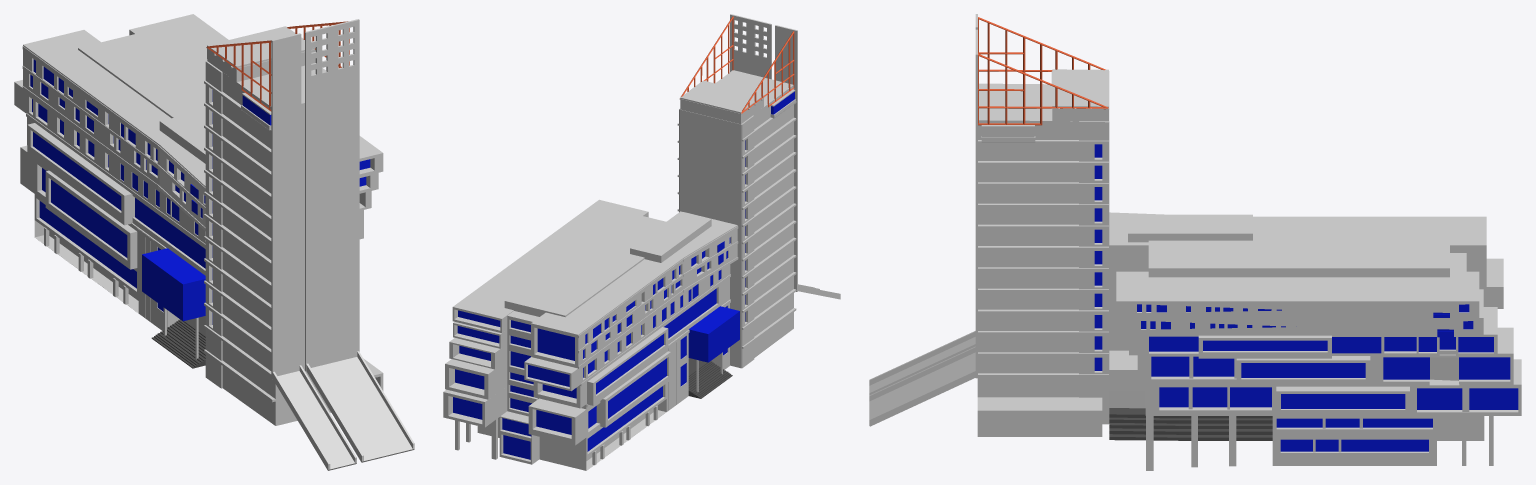
Rendered from golden_jubilee.fbx.
3 views of the same model, side by side, from view 1: azimuth 30°, elevation 25°; view 2: azimuth 150°, elevation 25°; view 3: azimuth 270°, elevation 25° (orthographic). The views are drawn at different scales.
Parts seen in each view (by area): view 1: Cube.002; view 2: Cube.002; view 3: Cube.002.
Part boxes in pixels (left/top/right/bottom): Cube.002: left=14, top=14, right=414, bottom=470; Cube.002: left=443, top=14, right=840, bottom=470; Cube.002: left=869, top=14, right=1521, bottom=470.
Bounding box in the file's own units: 493 × 953 × 1500.
